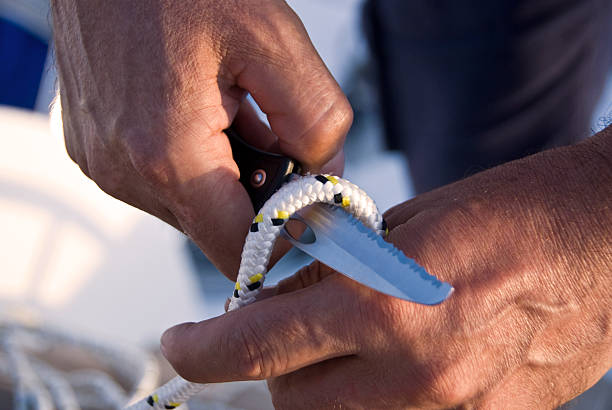knife: (231, 129, 455, 308)
